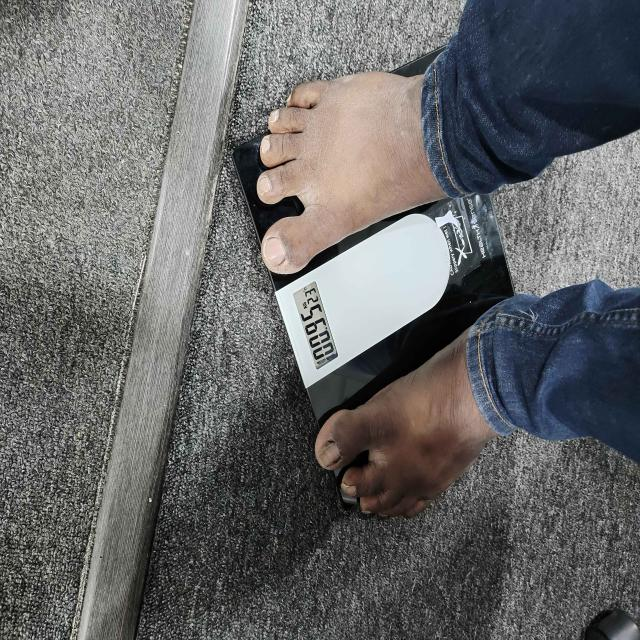ws: (274, 199, 512, 421)
